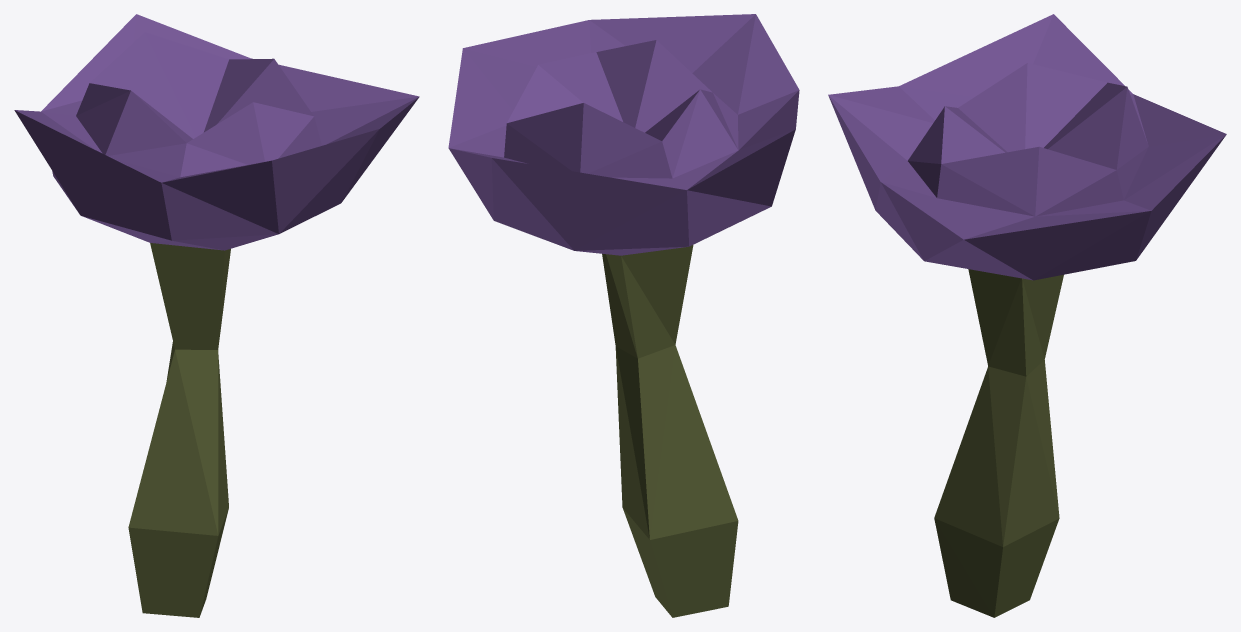
Rendered from SM_Env_Flower_08.glb.
3 renders of one model, left to right at view 1: azimuth 30°, elevation 25°; view 2: azimuth 150°, elevation 25°; view 3: azimuth 270°, elevation 25°, orthographic. The views are drawn at different scales.
Parts seen in each view (by area): view 1: SM_Env_Flower_08; view 2: SM_Env_Flower_08; view 3: SM_Env_Flower_08.
Boxes of the visible parts, box(x1,y1,x2,y2) form: SM_Env_Flower_08: box(14, 14, 419, 617); SM_Env_Flower_08: box(448, 14, 799, 617); SM_Env_Flower_08: box(828, 14, 1226, 617).
Size of the model in its own units: 2.34 by 3.21 by 2.18.
1 material, 1 textured.
